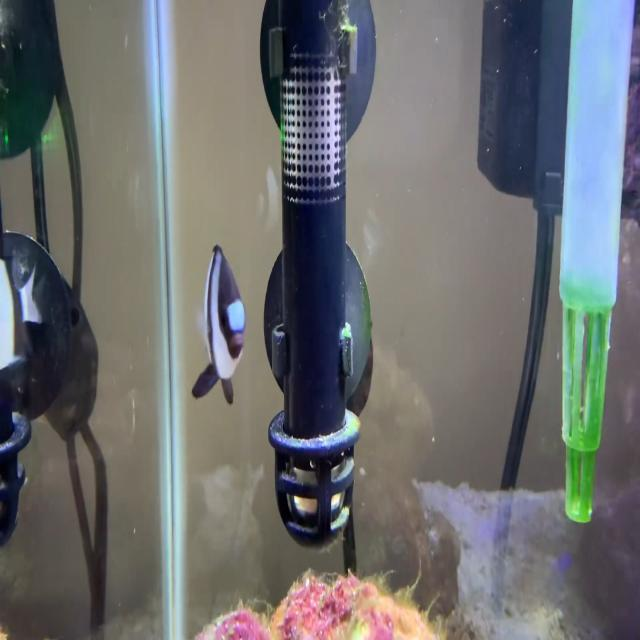ThreeStripedDamselfish: (194, 246, 246, 405)
